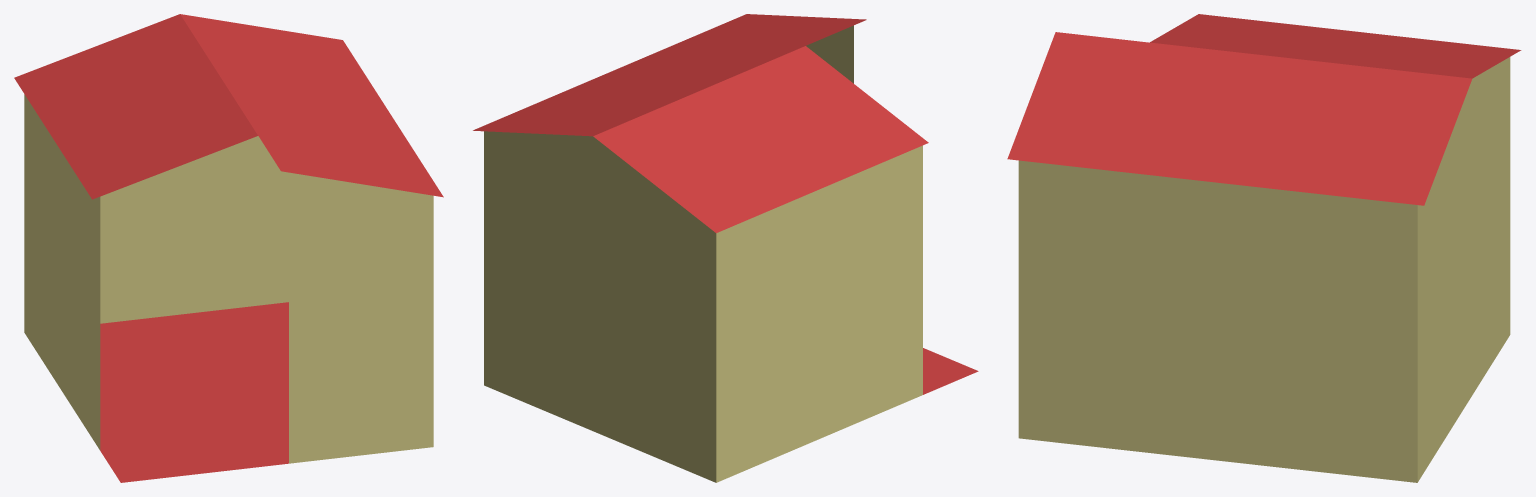
3 views of the same model, side by side, from view 1: azimuth 30°, elevation 25°; view 2: azimuth 150°, elevation 25°; view 3: azimuth 270°, elevation 25° (orthographic). The views are drawn at different scales.
Size of the model in its own units: 12.55 by 13.82 by 9.84.
